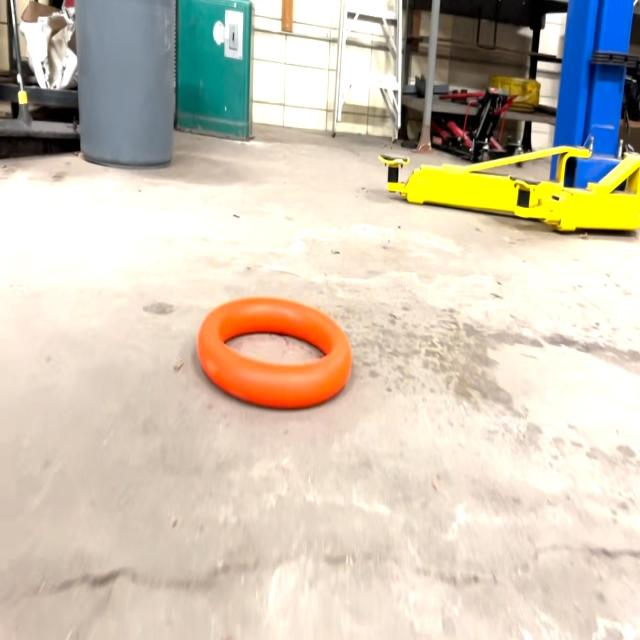note: (201, 292, 351, 409)
